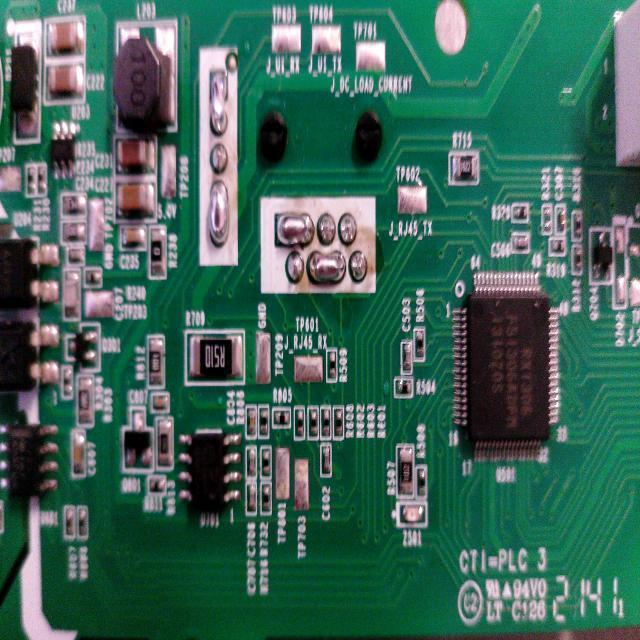Soldering shorted: (308, 246, 350, 296), (208, 180, 234, 254), (274, 210, 316, 247), (207, 68, 231, 132)
